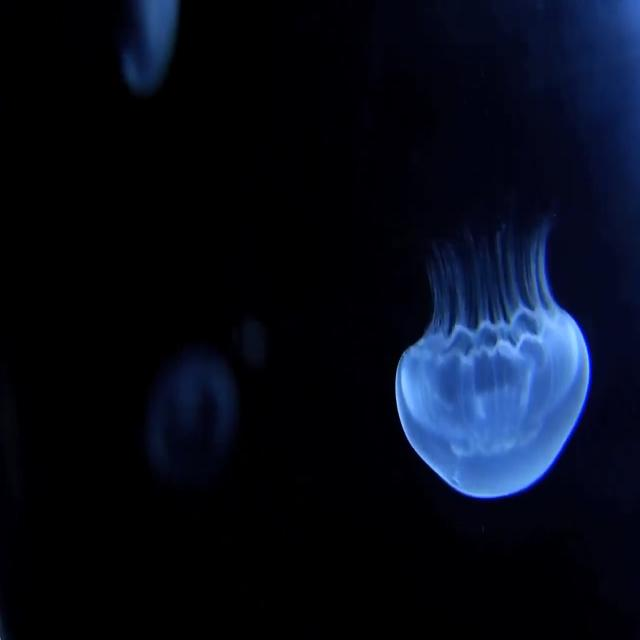Moon-jellyfish: (392, 189, 594, 506)
